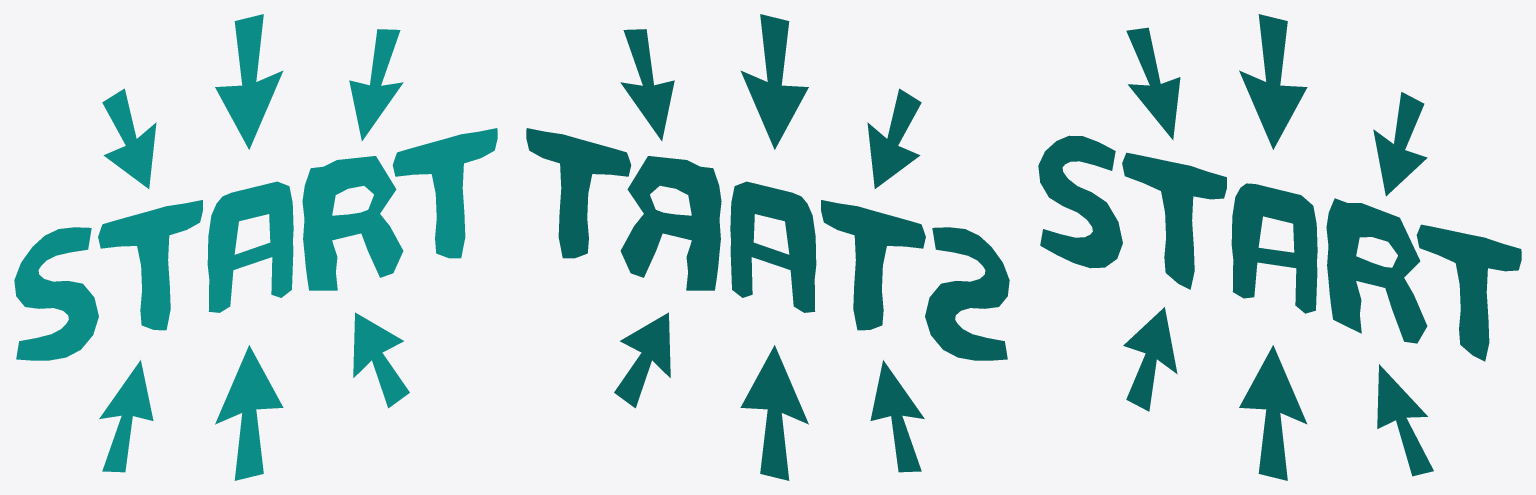
File: mesh_start.fbx
3 views of the same model, side by side, from view 1: azimuth 30°, elevation 25°; view 2: azimuth 150°, elevation 25°; view 3: azimuth 330°, elevation 25° (orthographic).
Parts seen in each view (by area): view 1: mesh_start, mesh_start_arrows; view 2: mesh_start, mesh_start_arrows; view 3: mesh_start, mesh_start_arrows.
Boxes of the visible parts, <box> form: mesh_start: <box>14,128,497,360</box>; mesh_start_arrows: <box>99,14,409,480</box>; mesh_start: <box>526,128,1009,360</box>; mesh_start_arrows: <box>614,14,924,480</box>; mesh_start: <box>1038,135,1521,361</box>; mesh_start_arrows: <box>1123,14,1433,480</box>.
Size of the model in its own units: 0.0802 by 0.0729 by 1.17e-07.
